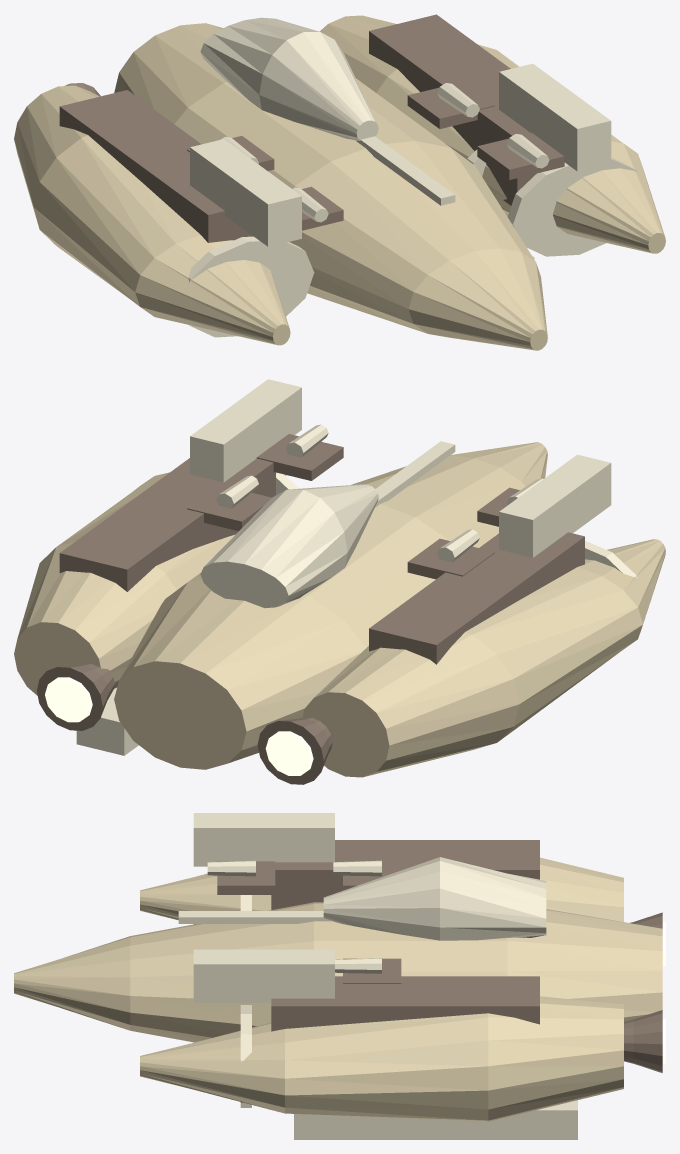
The picture shows the model from 3 angles, top to bottom: view 1: azimuth 30°, elevation 25°; view 2: azimuth 150°, elevation 25°; view 3: azimuth 270°, elevation 25°; orthographic projection. The views are drawn at different scales.
Size of the model in its own units: 15.01 by 6.64 by 18.45.
